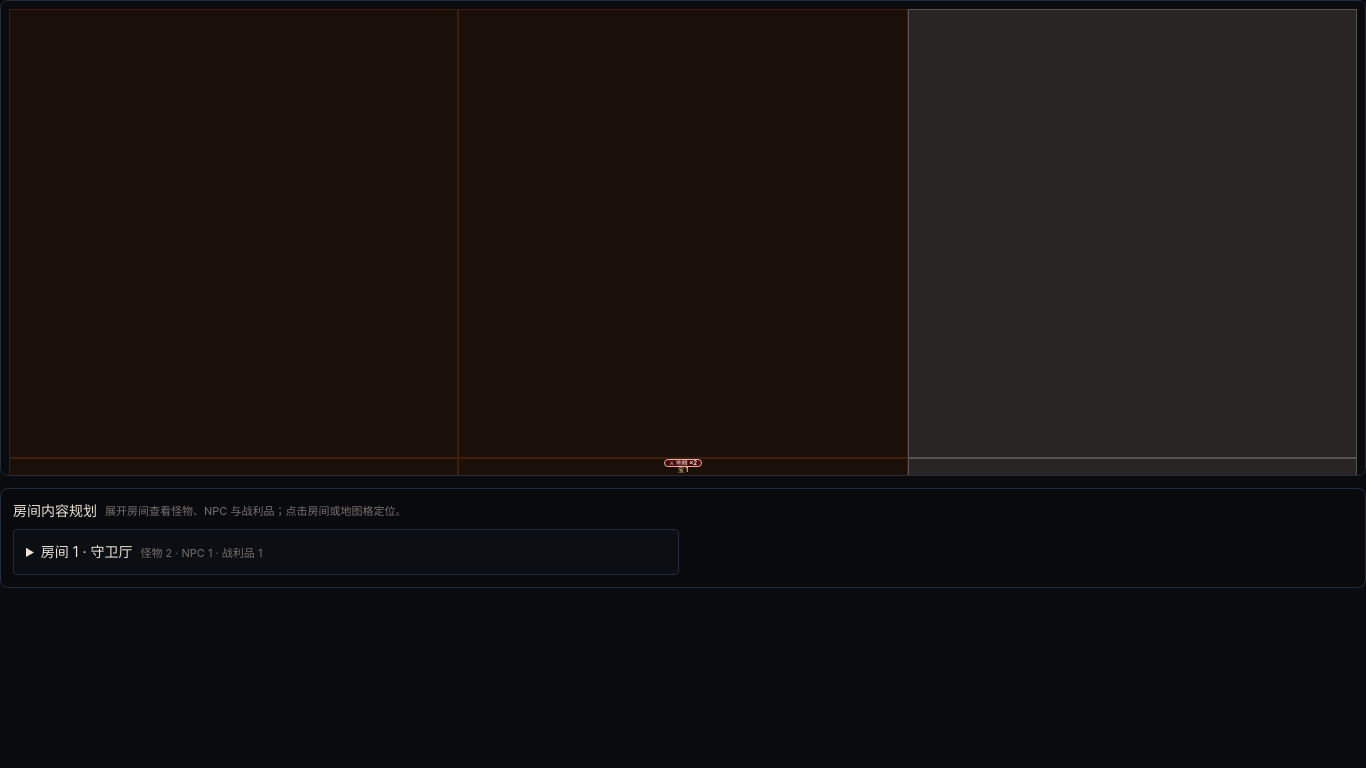
SiteMapWorkbench room plans › groups monsters, NPCs and rewards by room and highlights that room on the map
Click the text "房间 1 · 守卫厅".
click(57, 552)  # box x1=41 y1=543 x2=132 y2=560
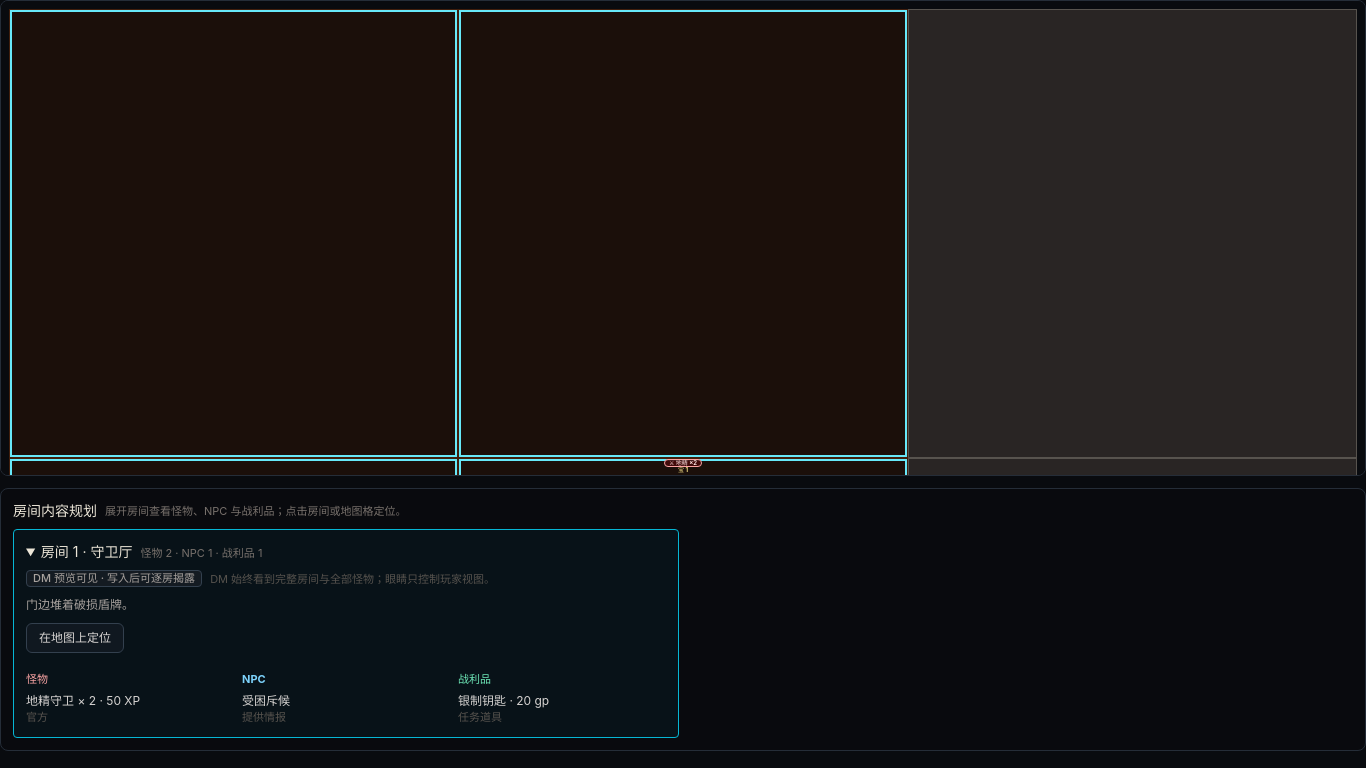
expect the text "地精守卫 × 2 · 50 XP 官方" is shown: met, box x1=26 y1=693 x2=140 y2=724
expect the text "受困斥候" is shown: met, box x1=242 y1=693 x2=290 y2=708
expect the text "银制钥匙 · 20 gp 任务道具" is shown: met, box x1=458 y1=693 x2=549 y2=724
